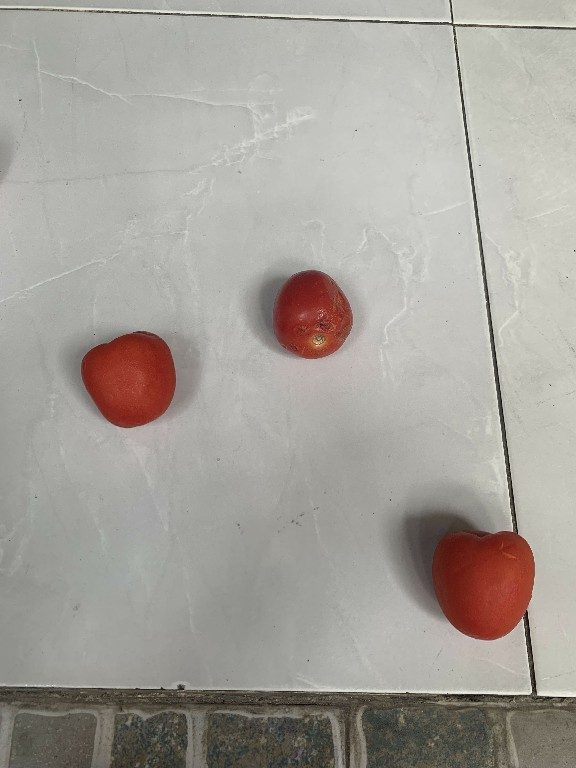NG: (270, 265, 357, 367)
OK: (429, 520, 540, 649), (77, 320, 182, 436)
